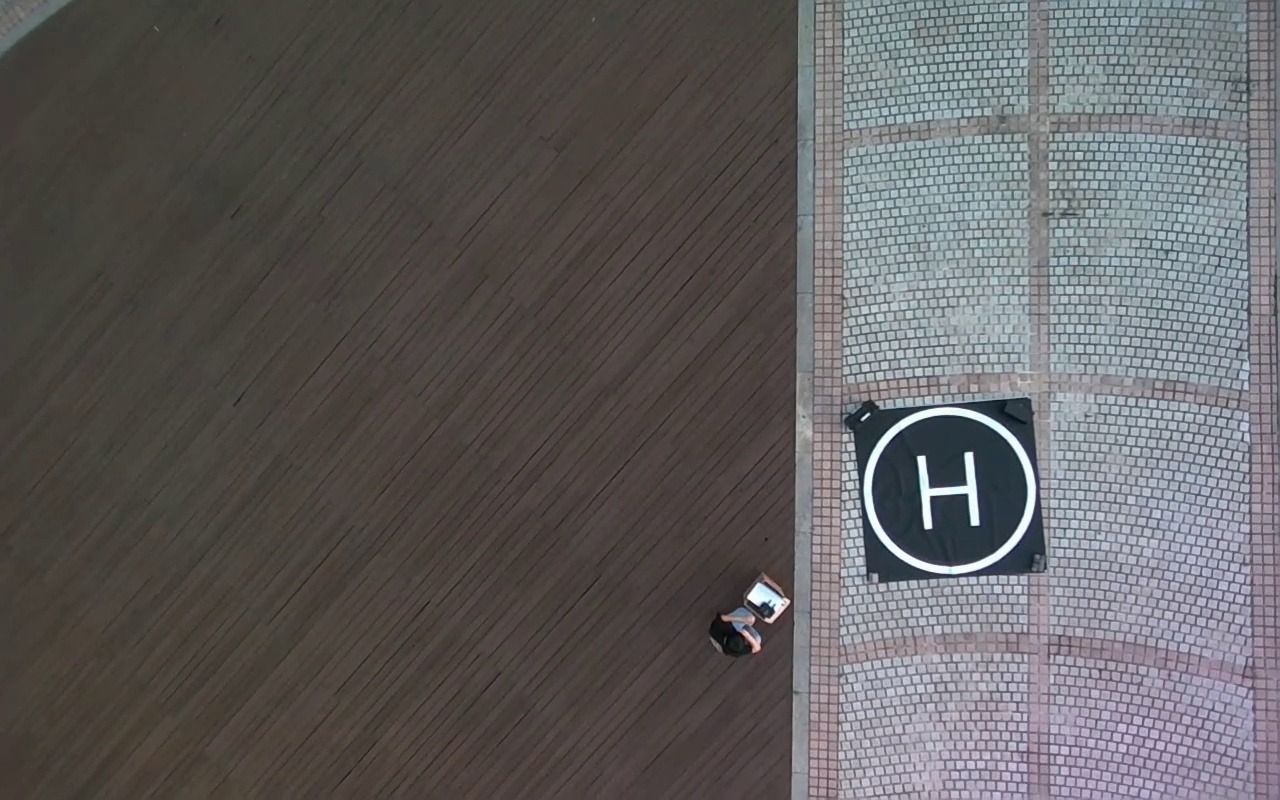H: (918, 450, 980, 531)
heliport: (863, 408, 1036, 572)
